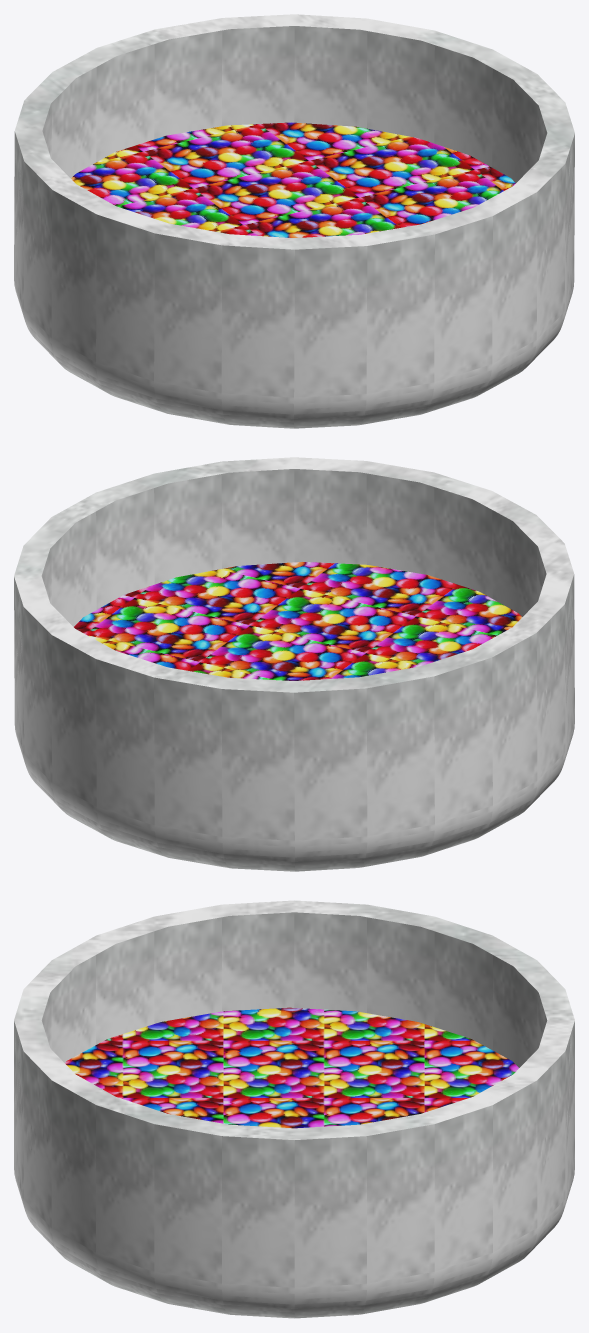
Rendered from candy-bowel.dae.
3 renders of one model, top to bottom at view 1: azimuth 30°, elevation 25°; view 2: azimuth 150°, elevation 25°; view 3: azimuth 270°, elevation 25°, orthographic.
Parts seen in each view (by area): view 1: SketchUp, SketchUp_002; view 2: SketchUp, SketchUp_002; view 3: SketchUp, SketchUp_002.
Part boxes in pixels (box(x1,y1,x2,y2)): SketchUp: box(14, 14, 574, 428); SketchUp_002: box(71, 122, 515, 237); SketchUp: box(14, 457, 574, 871); SketchUp_002: box(74, 562, 522, 680); SketchUp: box(14, 900, 574, 1318); SketchUp_002: box(65, 1007, 518, 1128).
Bounding box in the file's own units: 0.7687 × 0.7675 × 0.3004.
3 materials, 2 textured.
